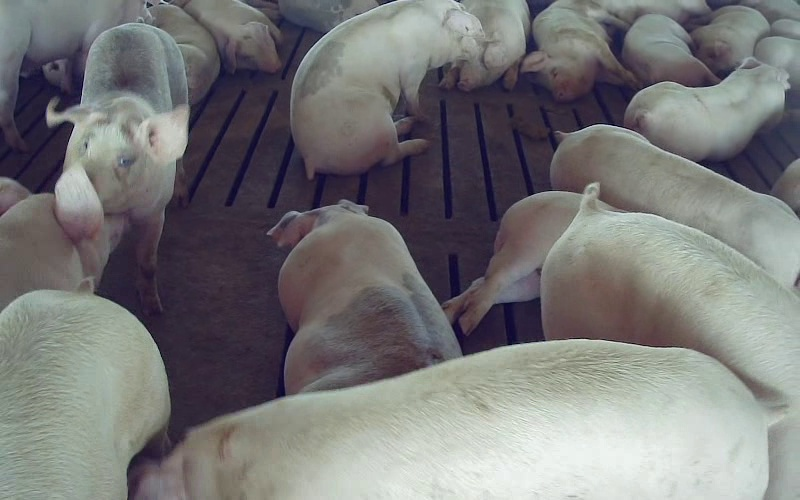pig: (135, 340, 784, 499), (541, 184, 799, 499), (47, 23, 189, 313), (550, 124, 799, 289), (268, 200, 460, 394), (0, 279, 169, 499), (442, 191, 581, 334), (624, 57, 789, 161), (520, 0, 637, 100), (439, 0, 529, 90), (182, 0, 280, 72), (149, 4, 219, 104), (622, 14, 719, 86), (691, 5, 769, 76)
